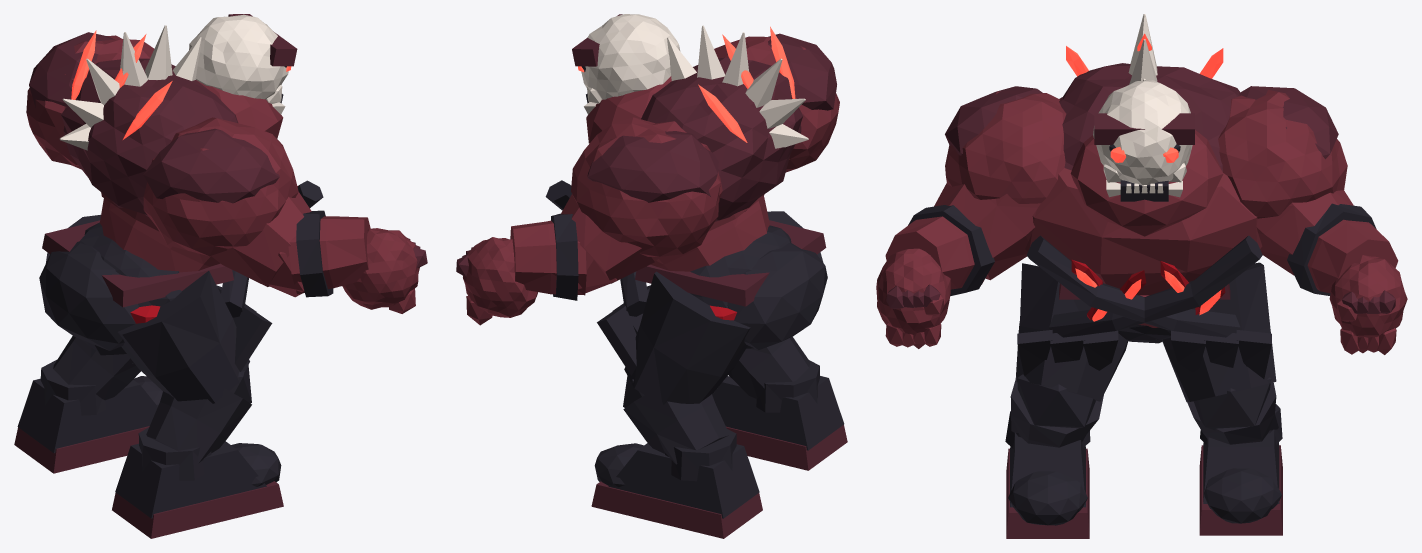
The picture shows the model from 3 angles, left to right: view 1: azimuth 30°, elevation 25°; view 2: azimuth 150°, elevation 25°; view 3: azimuth 270°, elevation 25°; orthographic projection. The views are drawn at different scales.
Visible parts, largest first — view 1: torso__alpha, armR__alpha, footR__alpha, hip__alpha, footL__alpha, legR__alpha, head__alpha, foreArmR__alpha, armL__alpha, shinR__alpha, handR__alpha, shinL__alpha; view 2: torso__alpha, armL__alpha, footL__alpha, hip__alpha, legL__alpha, footR__alpha, head__alpha, foreArmL__alpha, armR__alpha, shinL__alpha, handL__alpha, shinR__alpha; view 3: torso__alpha, armR__alpha, armL__alpha, head__alpha, footR__alpha, footL__alpha, handR__alpha, handL__alpha, foreArmL__alpha, legR__alpha, legL__alpha, foreArmR__alpha (+3 smaller).
Boxes of the visible parts, x1,y1,x2,y2 form: torso__alpha: [59, 25, 323, 371]; armR__alpha: [143, 117, 311, 286]; footR__alpha: [112, 427, 283, 538]; hip__alpha: [39, 220, 233, 350]; footL__alpha: [14, 360, 162, 473]; legR__alpha: [118, 271, 249, 403]; head__alpha: [189, 14, 297, 114]; foreArmR__alpha: [261, 210, 370, 297]; armL__alpha: [26, 32, 154, 169]; shinR__alpha: [146, 365, 251, 463]; handR__alpha: [342, 228, 427, 313]; shinL__alpha: [53, 336, 140, 400]; torso__alpha: [545, 25, 808, 375]; armL__alpha: [561, 117, 722, 283]; footL__alpha: [591, 429, 762, 538]; hip__alpha: [635, 220, 827, 350]; legL__alpha: [624, 271, 750, 404]; footR__alpha: [712, 360, 847, 470]; head__alpha: [572, 14, 680, 114]; foreArmL__alpha: [510, 213, 616, 300]; armR__alpha: [714, 33, 839, 172]; shinL__alpha: [623, 376, 729, 464]; handL__alpha: [456, 237, 537, 325]; shinR__alpha: [728, 337, 810, 398]; torso__alpha: [1017, 14, 1271, 378]; armR__alpha: [934, 86, 1066, 280]; armL__alpha: [1218, 86, 1353, 275]; head__alpha: [1093, 80, 1194, 201]; footR__alpha: [1005, 411, 1090, 538]; footL__alpha: [1199, 404, 1282, 535]; handR__alpha: [876, 248, 950, 348]; handL__alpha: [1329, 255, 1407, 354]; foreArmL__alpha: [1287, 203, 1398, 295]; legR__alpha: [1015, 263, 1127, 401]; legL__alpha: [1162, 262, 1276, 401]; foreArmR__alpha: [885, 205, 994, 295].
Bounding box in the file's own units: 1.41 × 2.39 × 2.42.
